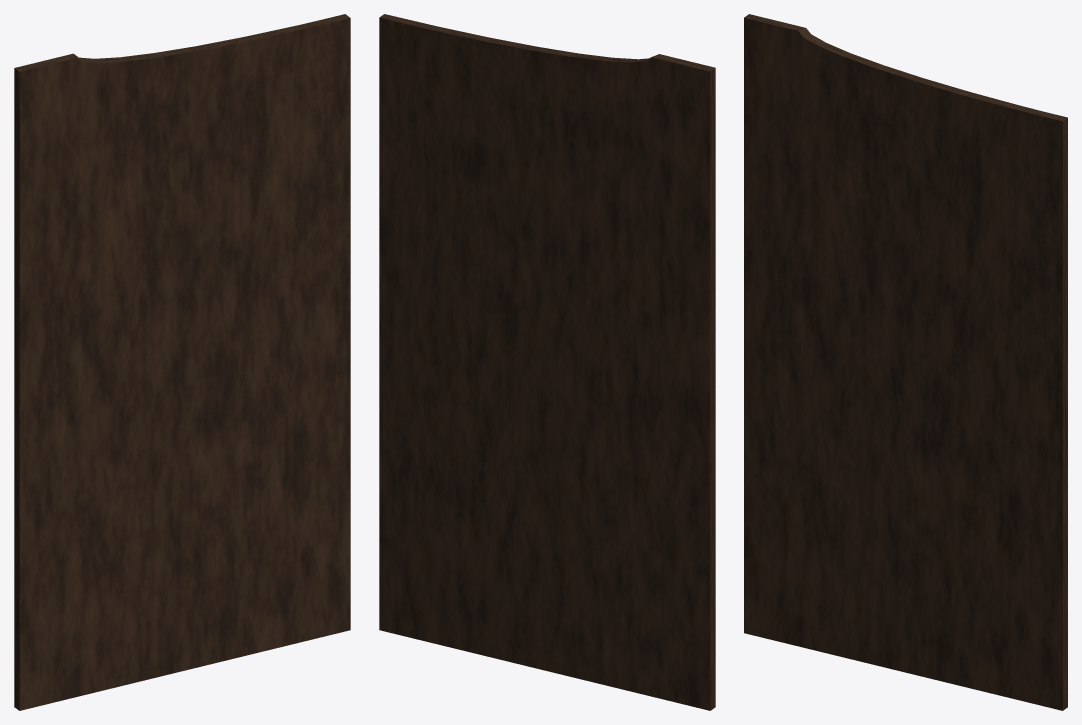
The model's file is door_r.fbx.
3 views of the same model, side by side, from view 1: azimuth 30°, elevation 25°; view 2: azimuth 150°, elevation 25°; view 3: azimuth 330°, elevation 25° (orthographic). The views are drawn at different scales.
Parts seen in each view (by area): view 1: door_r_Baked; view 2: door_r_Baked; view 3: door_r_Baked.
Boxes of the visible parts, <box> form: door_r_Baked: <box>14,14,350,710</box>; door_r_Baked: <box>379,14,715,710</box>; door_r_Baked: <box>744,14,1067,710</box>.
Bounding box in the file's own units: 32.45 × 59.85 × 0.9.
Materials: 1 (1 with a texture image).
